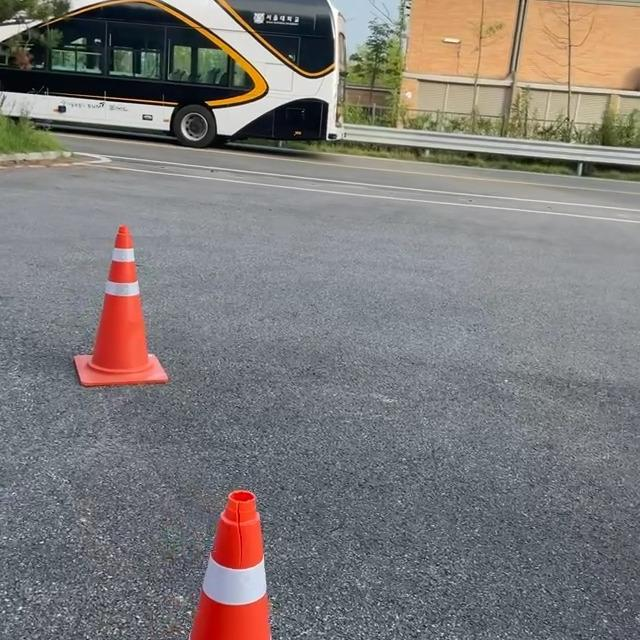fallen_object: (156, 476, 309, 640), (60, 212, 168, 413)
